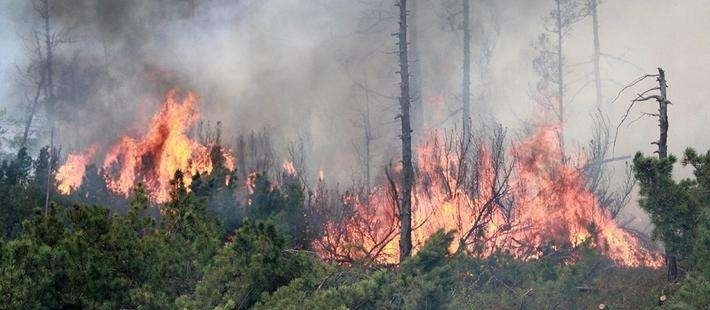fire: (305, 108, 671, 265), (51, 88, 241, 206)
